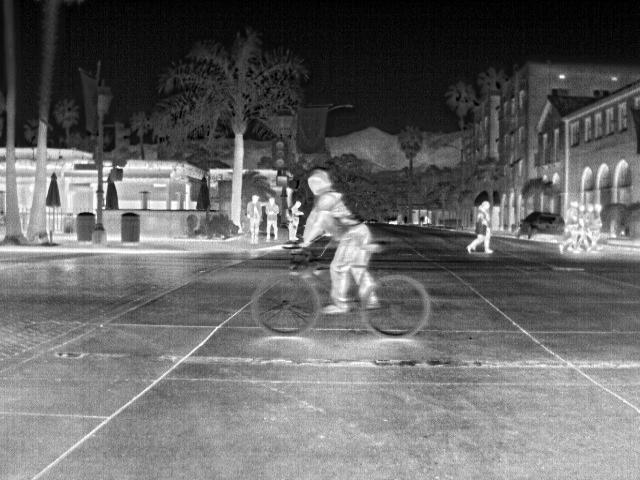car: (514, 212, 565, 241)
person: (298, 167, 381, 315), (464, 200, 499, 254), (556, 200, 579, 255), (243, 194, 267, 244), (576, 204, 596, 252), (286, 199, 306, 242), (263, 196, 280, 242), (585, 204, 597, 229)
